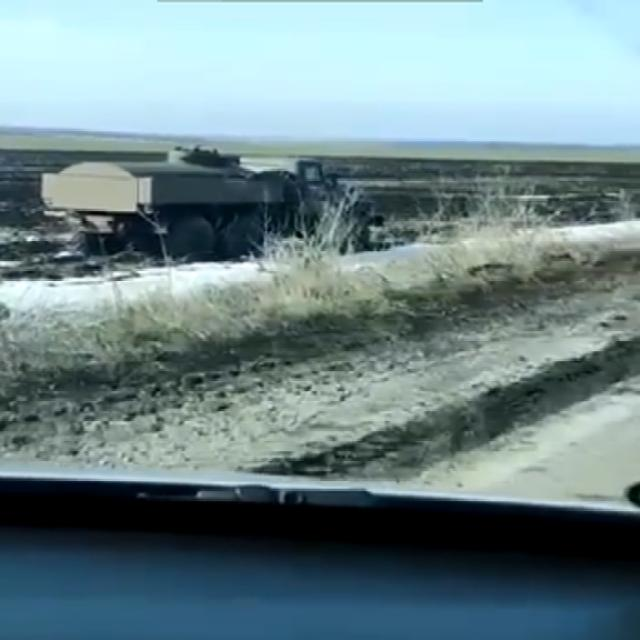TRUCK: (36, 131, 388, 271)
